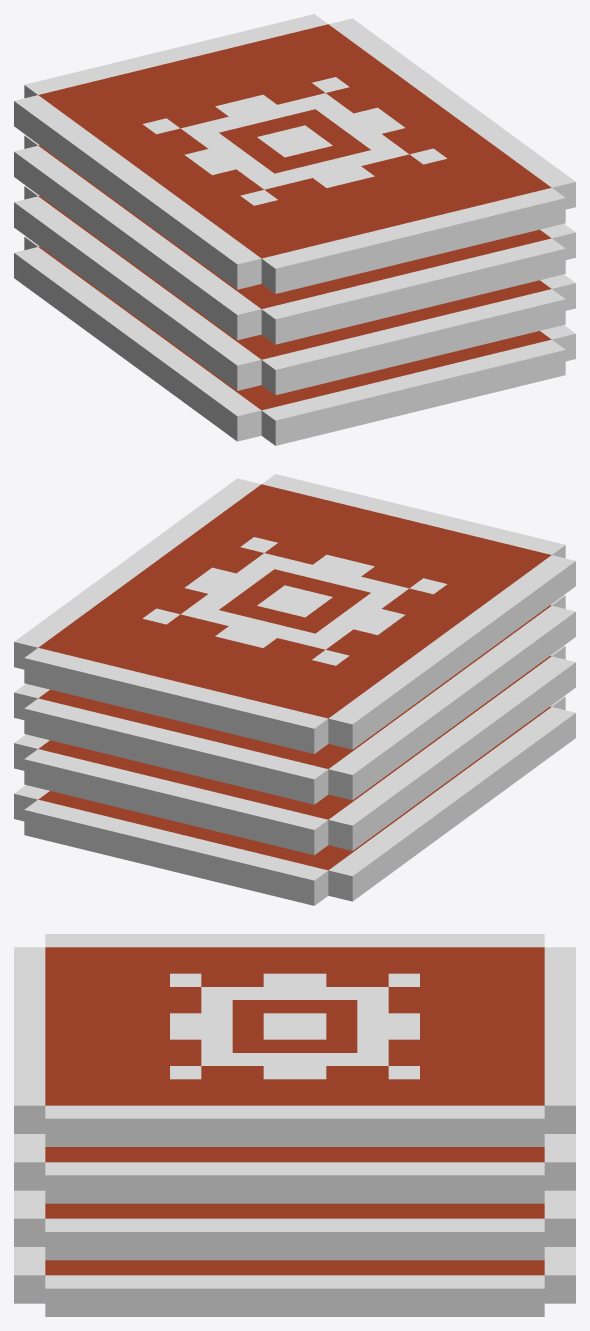
Rendered from OperateDeck.obj.
The picture shows the model from 3 angles, top to bottom: view 1: azimuth 30°, elevation 25°; view 2: azimuth 150°, elevation 25°; view 3: azimuth 270°, elevation 25°; orthographic projection. The views are drawn at different scales.
Bounding box in the file's own units: 1.4 × 0.7 × 1.8.
1 material, 1 textured.
